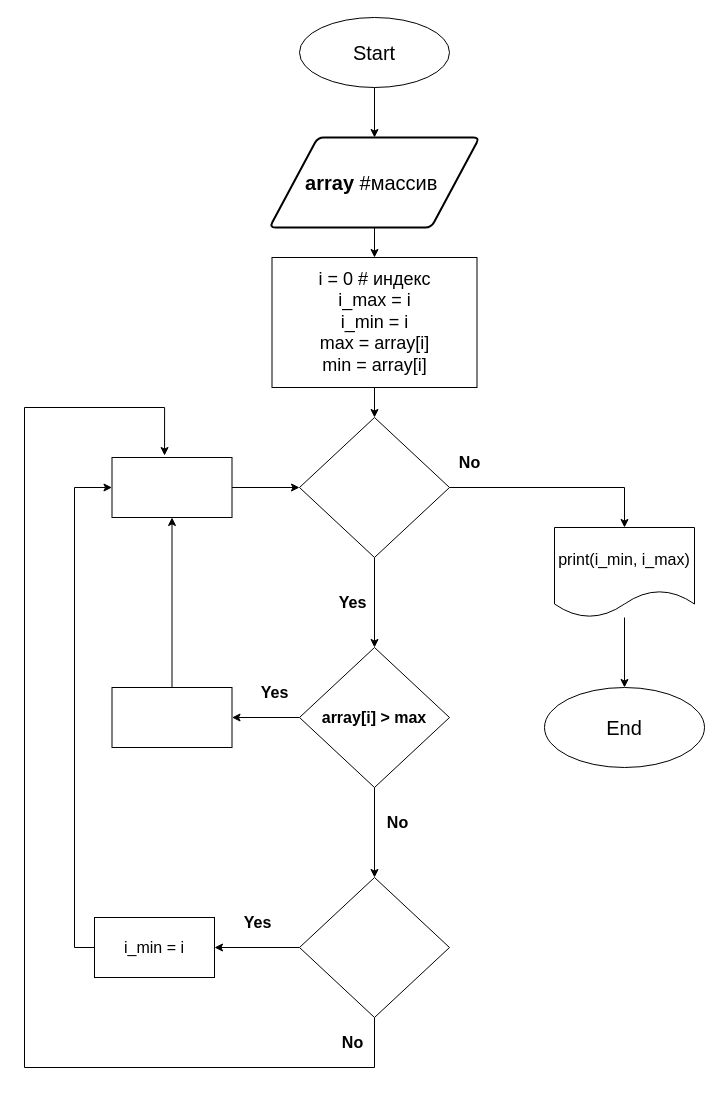
Image size: 722x1093. Some labels were removed from this diagram. The box of each missing label's shape, as (x1, y1, x2, y2) in pixels:
array[i] < min: (298, 876, 450, 1018)
i ++: (111, 456, 232, 518)
i < array.length: (298, 416, 450, 558)
i_max = i: (111, 686, 232, 748)
